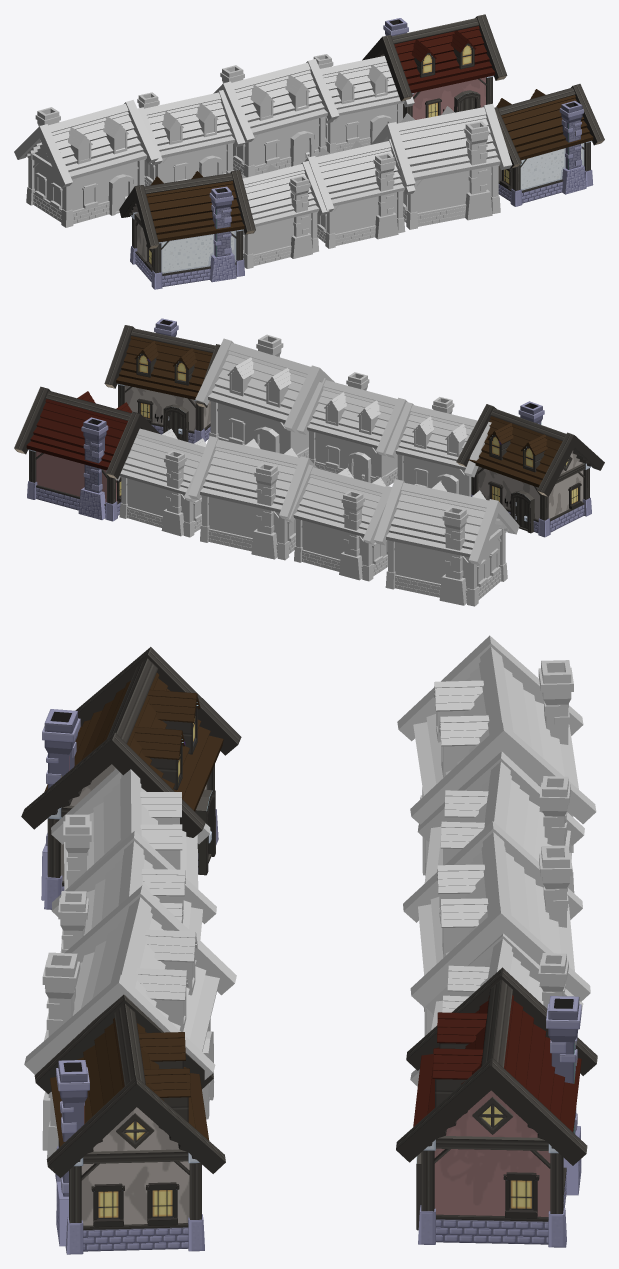
The model's file is cartier again.fbx.
The picture shows the model from 3 angles, top to bottom: view 1: azimuth 30°, elevation 25°; view 2: azimuth 150°, elevation 25°; view 3: azimuth 270°, elevation 25°; orthographic projection. The views are drawn at different scales.
Visible parts, largest first — view 1: House.004, House.006, House.010, House.005, House.002, House.007, House.009, House.001, House.008, House.003; view 2: House.004, House.006, House.005, House.002, House.010, House.007, House.001, House.009, House.003, House.008; view 3: House.005, House.007, House.006, House.010, House.004, House.002, House.001, House.008, House.009, House.003.
Boxes of the visible parts, box(x1,y1,x2,y2) form: House.004: box(14, 100, 158, 227); House.006: box(119, 170, 255, 289); House.010: box(371, 103, 512, 229); House.005: box(362, 14, 507, 119); House.002: box(213, 59, 339, 177); House.007: box(494, 84, 604, 206); House.009: box(304, 139, 415, 248); House.001: box(137, 90, 245, 186); House.008: box(241, 161, 329, 268); House.003: box(313, 54, 414, 153); House.004: box(374, 479, 519, 606); House.006: box(456, 401, 604, 537); House.005: box(14, 386, 159, 521); House.002: box(188, 436, 317, 560); House.010: box(195, 334, 334, 457); House.007: box(104, 318, 220, 443); House.001: box(284, 464, 391, 581); House.009: box(296, 372, 407, 485); House.003: box(115, 428, 206, 537); House.008: box(385, 397, 491, 496); House.005: box(396, 967, 597, 1247); House.007: box(34, 994, 225, 1254); House.006: box(21, 647, 241, 909); House.010: box(24, 885, 236, 1158); House.004: box(397, 635, 596, 892); House.002: box(403, 821, 590, 1035); House.001: box(417, 751, 584, 883); House.008: box(51, 768, 210, 905); House.009: box(45, 831, 216, 988); House.003: box(410, 933, 583, 1086).
Size of the model in its own units: 4691 by 919 by 2561.
